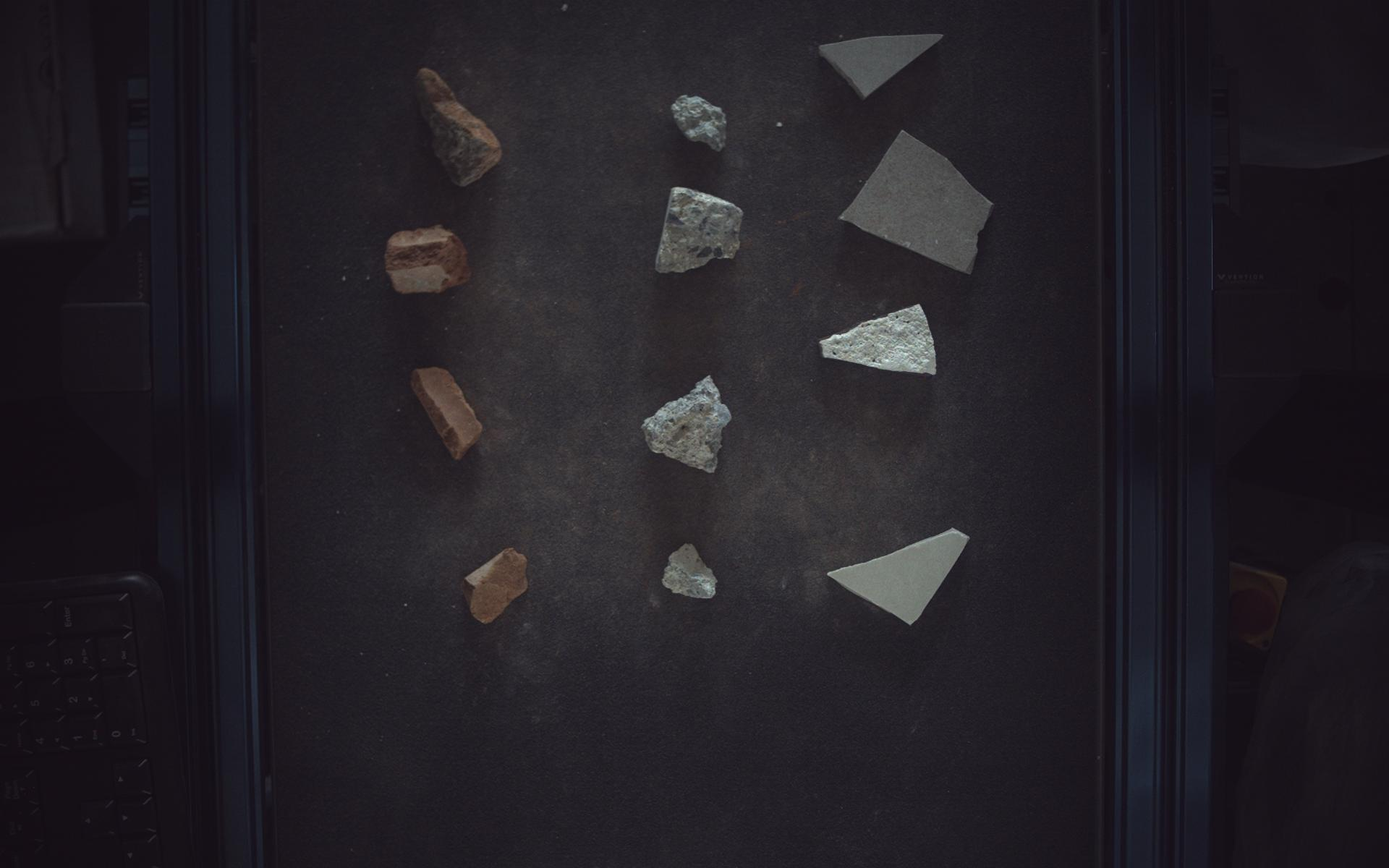brick: (415, 67, 502, 186), (411, 367, 483, 460), (385, 224, 470, 293), (462, 548, 528, 624)
concrete: (642, 375, 732, 473), (656, 186, 743, 273), (672, 94, 728, 150), (663, 544, 717, 600)
tile: (843, 129, 995, 273), (829, 529, 970, 626), (822, 305, 938, 374), (821, 34, 945, 98)
